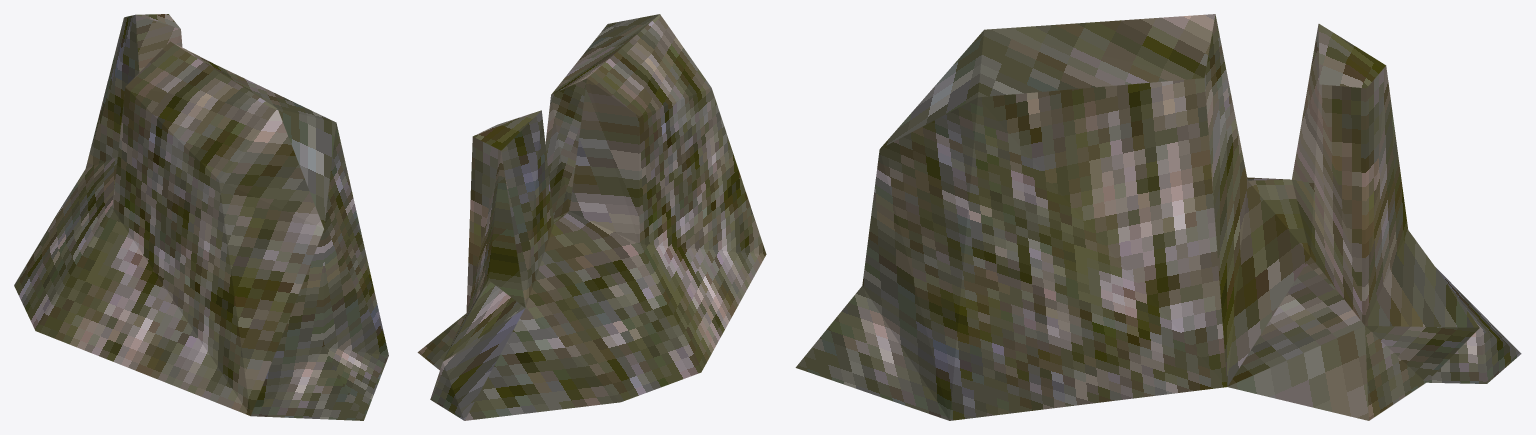
File: uvmd-0054.glb
The picture shows the model from 3 angles, left to right: view 1: azimuth 30°, elevation 25°; view 2: azimuth 150°, elevation 25°; view 3: azimuth 270°, elevation 25°; orthographic projection. The views are drawn at different scales.
Visible parts, largest first — view 1: uvmd-0054; view 2: uvmd-0054; view 3: uvmd-0054.
Boxes of the visible parts, x1=… form: uvmd-0054: x1=14, y1=14, x2=388, y2=420; uvmd-0054: x1=417, y1=14, x2=766, y2=420; uvmd-0054: x1=795, y1=14, x2=1521, y2=420.
Bounding box in the file's own units: 447 × 472 × 923.
1 material, 1 textured.
